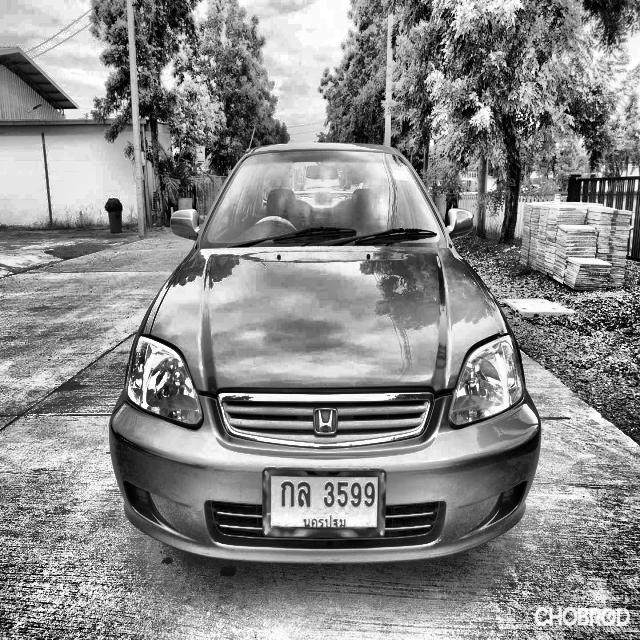license-plate: (264, 466, 386, 540)
